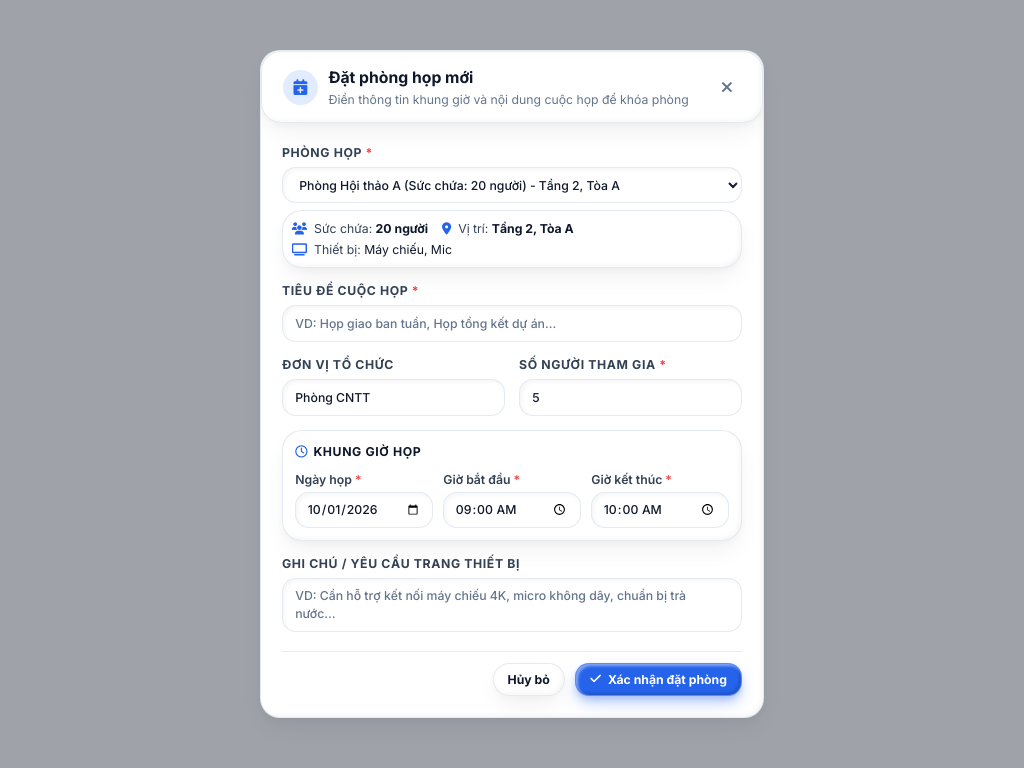
Test: BookingModal Component (Issue #22 - Phase 3) › hiển thị thông báo khi máy chủ trả về lỗi trùng lịch (conflict 400)
The image size is (1024, 768).
Type "Họp trùng lịch" into the field with placeholder "VD: Họp giao ban tuần, Họp tổng kết dự án...". click: point(512, 324)
box: [282,305,742,342]
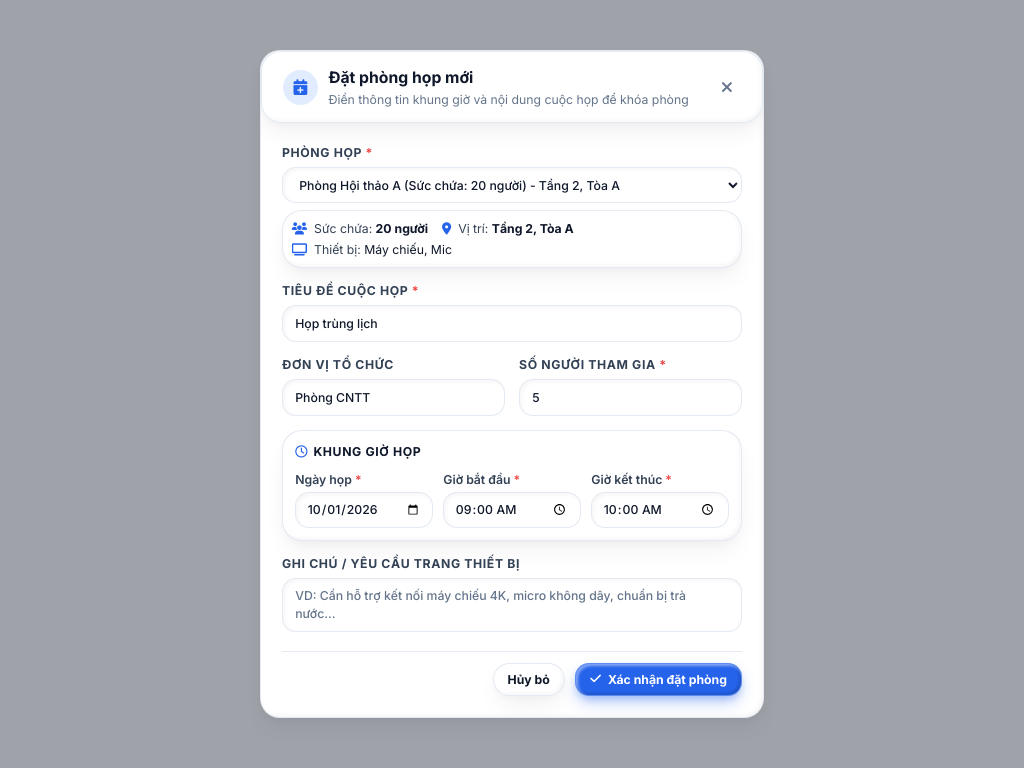
Click the button "Xác nhận đặt phòng". click: point(659, 679)
box: [575,662,742,696]
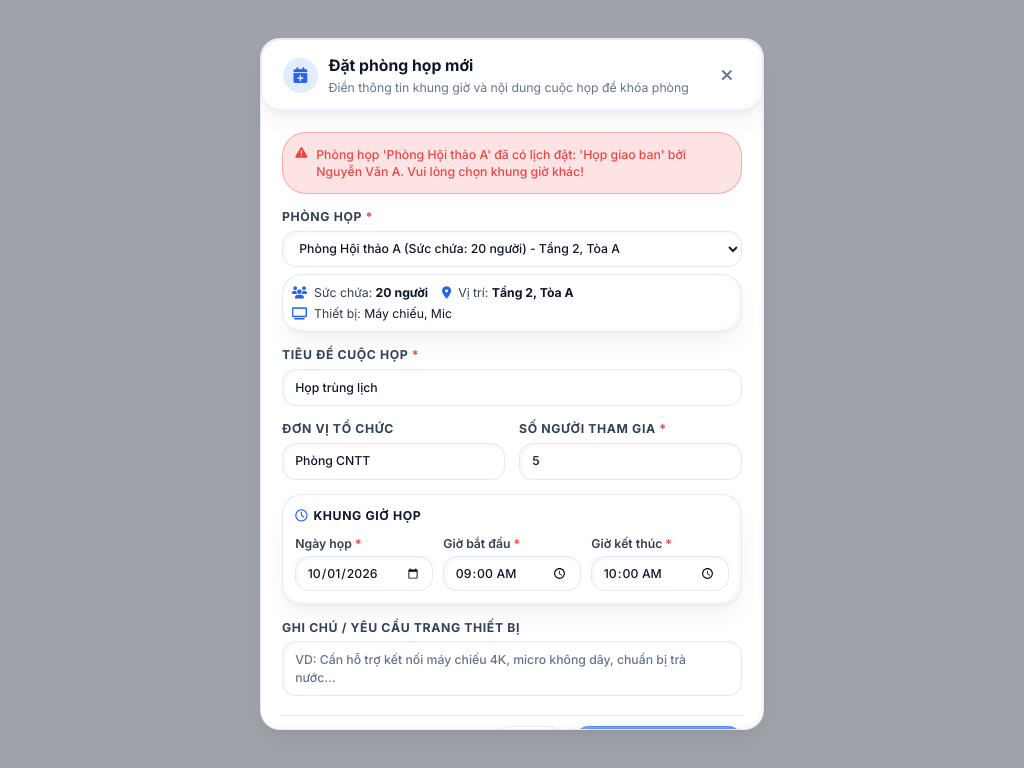
expect the text "Phòng họp 'Phòng Hội thảo A' đã có lịch đặt" is shown: met, box [316,147,686,179]
